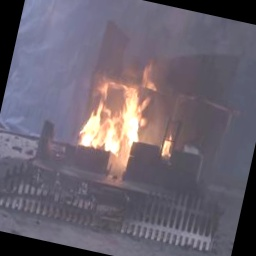fire: (76, 60, 159, 173)
